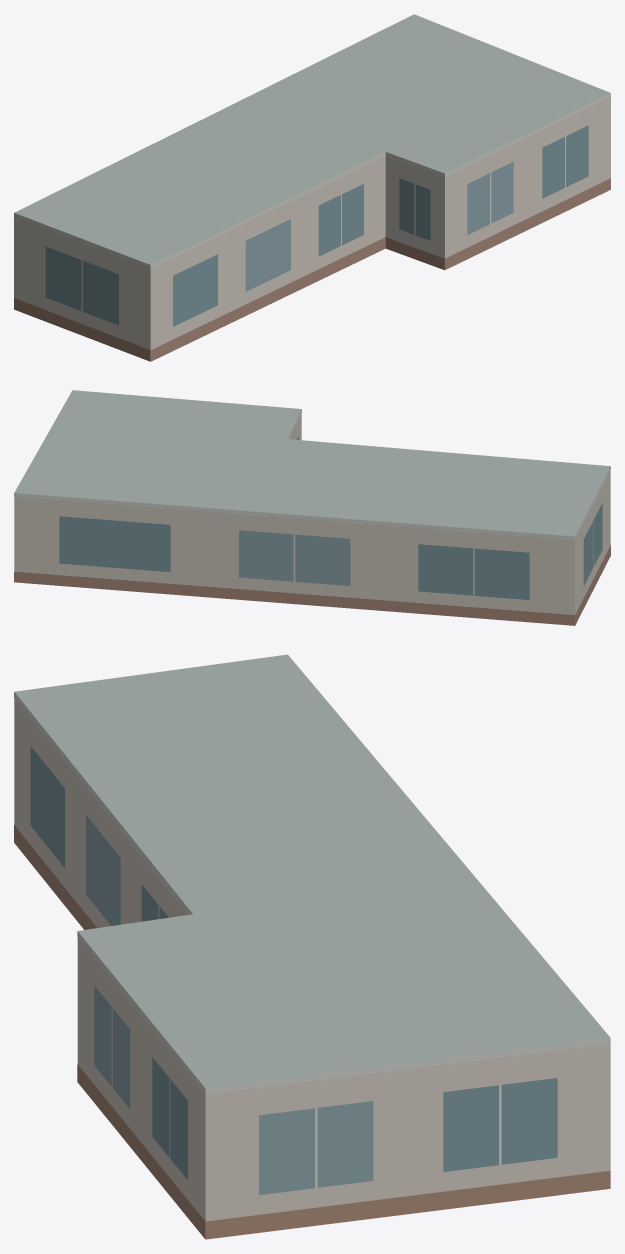
The model's file is survey-upis-32764780.glb.
The picture shows the model from 3 angles, top to bottom: view 1: azimuth 30°, elevation 25°; view 2: azimuth 150°, elevation 25°; view 3: azimuth 270°, elevation 25°; orthographic projection. The views are drawn at different scales.
Visible parts, largest first — view 1: survey-upis-32764780.tmp; view 2: survey-upis-32764780.tmp; view 3: survey-upis-32764780.tmp.
Boxes of the visible parts, bbox=[...] form: survey-upis-32764780.tmp: bbox=[14, 14, 610, 361]; survey-upis-32764780.tmp: bbox=[14, 390, 610, 625]; survey-upis-32764780.tmp: bbox=[14, 654, 610, 1239].
Size of the model in its own units: 18.84 by 3.05 by 10.94.
